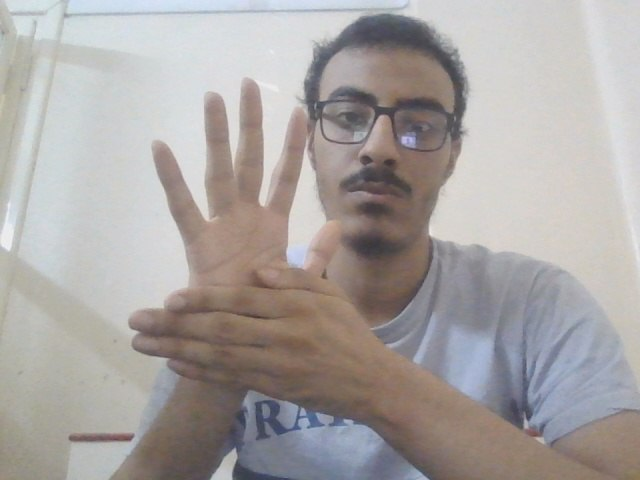Movie: (120, 72, 398, 418)
